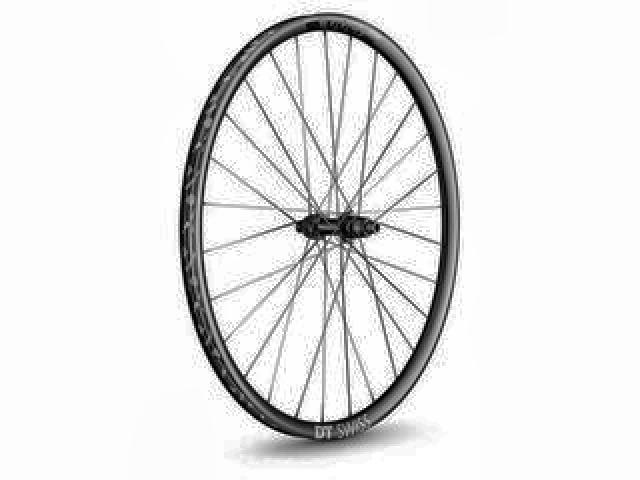wheel: (176, 10, 464, 446)
